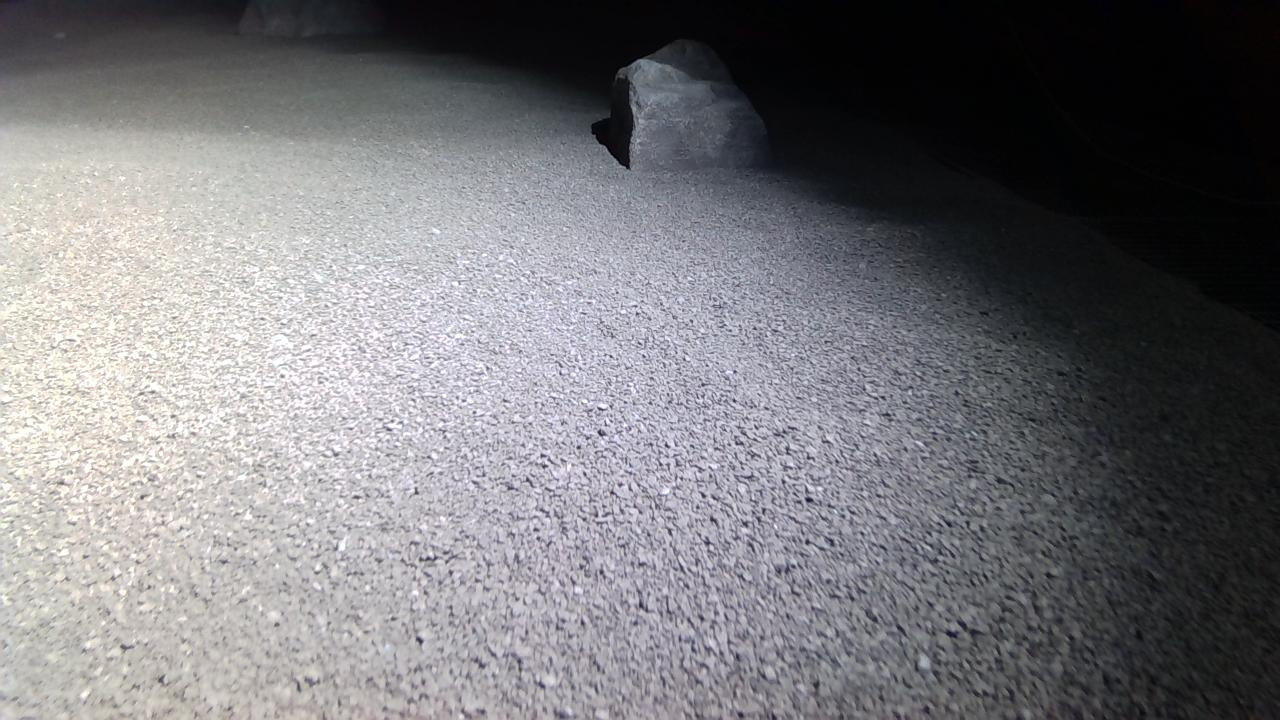rock: (610, 40, 769, 167), (239, 0, 383, 35)
